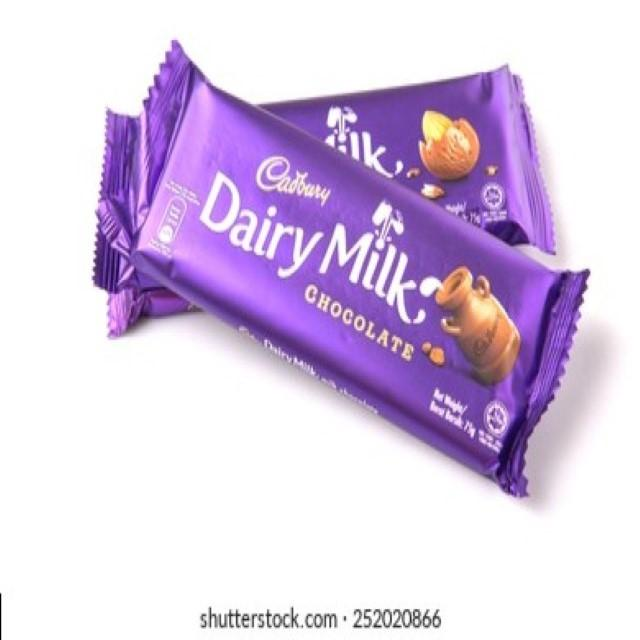cadbury_chocolate: (163, 55, 562, 492), (83, 106, 560, 262)
